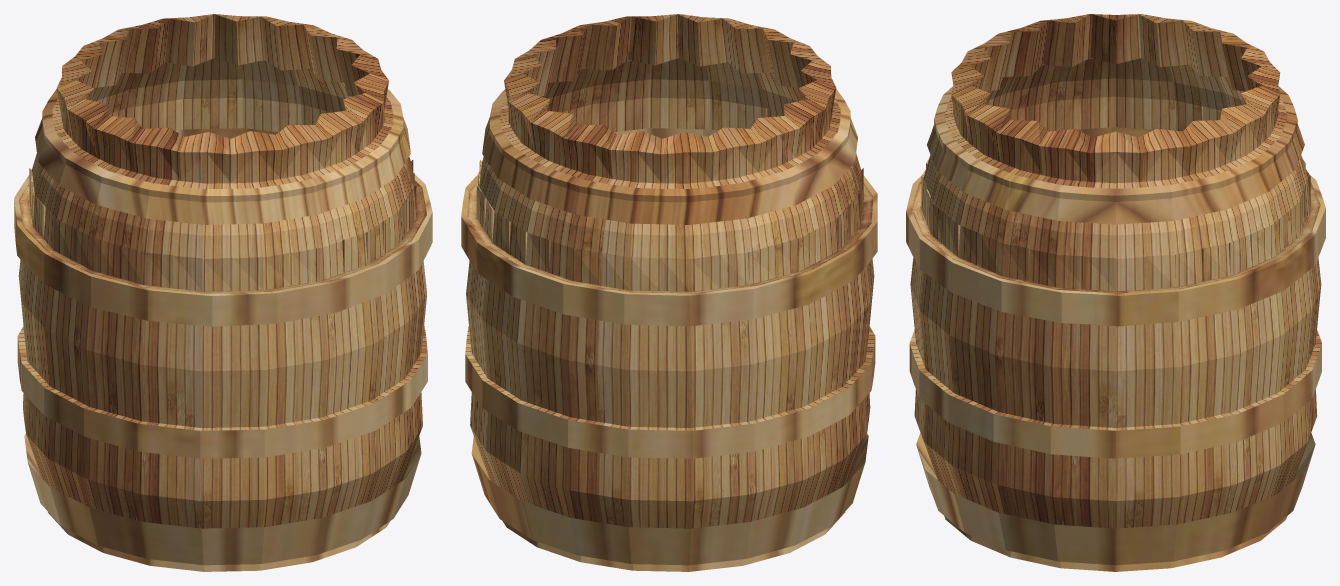
Rendered from barrel.fbx.
3 views of the same model, side by side, from view 1: azimuth 30°, elevation 25°; view 2: azimuth 150°, elevation 25°; view 3: azimuth 270°, elevation 25° (orthographic).
Visible parts, largest first — view 1: pCylinder1; view 2: pCylinder1; view 3: pCylinder1.
Boxes of the visible parts, box(x1,y1,x2,y2) form: pCylinder1: box(14, 14, 432, 571); pCylinder1: box(461, 14, 877, 571); pCylinder1: box(906, 14, 1325, 571).
Size of the model in its own units: 2.16 by 2.4 by 2.16.
